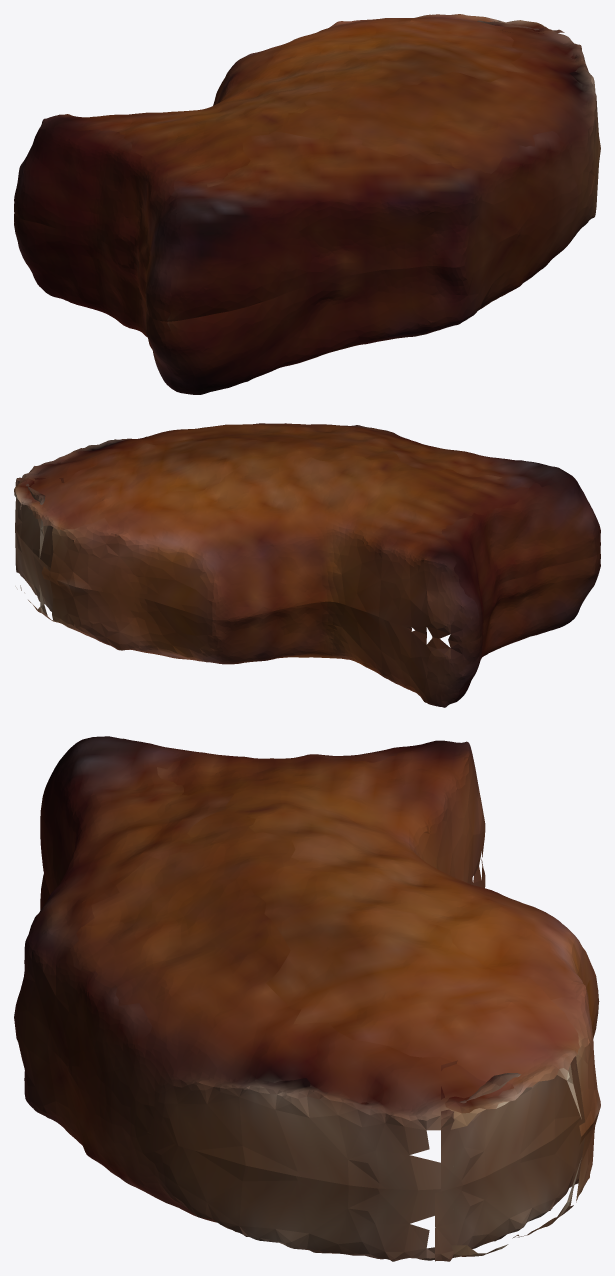
File: age-taiyaki.glb
3 renders of one model, top to bottom at view 1: azimuth 30°, elevation 25°; view 2: azimuth 150°, elevation 25°; view 3: azimuth 270°, elevation 25°, orthographic. The views are drawn at different scales.
Parts seen in each view (by area): view 1: mesh.001, mesh; view 2: mesh.001, mesh, mesh.002, mesh.003; view 3: mesh.001, mesh, mesh.003, mesh.002.
Boxes of the visible parts, left/top/right/bottom form: mesh.001: left=14, top=14, right=600, bottom=321; mesh: left=14, top=149, right=600, bottom=394; mesh.001: left=14, top=423, right=600, bottom=642; mesh: left=15, top=551, right=600, bottom=707; mesh.002: left=15, top=477, right=64, bottom=567; mesh.003: left=15, top=523, right=53, bottom=612; mesh.001: left=14, top=736, right=600, bottom=1190; mesh: left=14, top=859, right=599, bottom=1261; mesh.003: left=435, top=1115, right=584, bottom=1261; mesh.002: left=441, top=1056, right=583, bottom=1191.
Size of the model in its own units: 0.0703 by 0.0263 by 0.0481.
4 materials, 4 textured.
